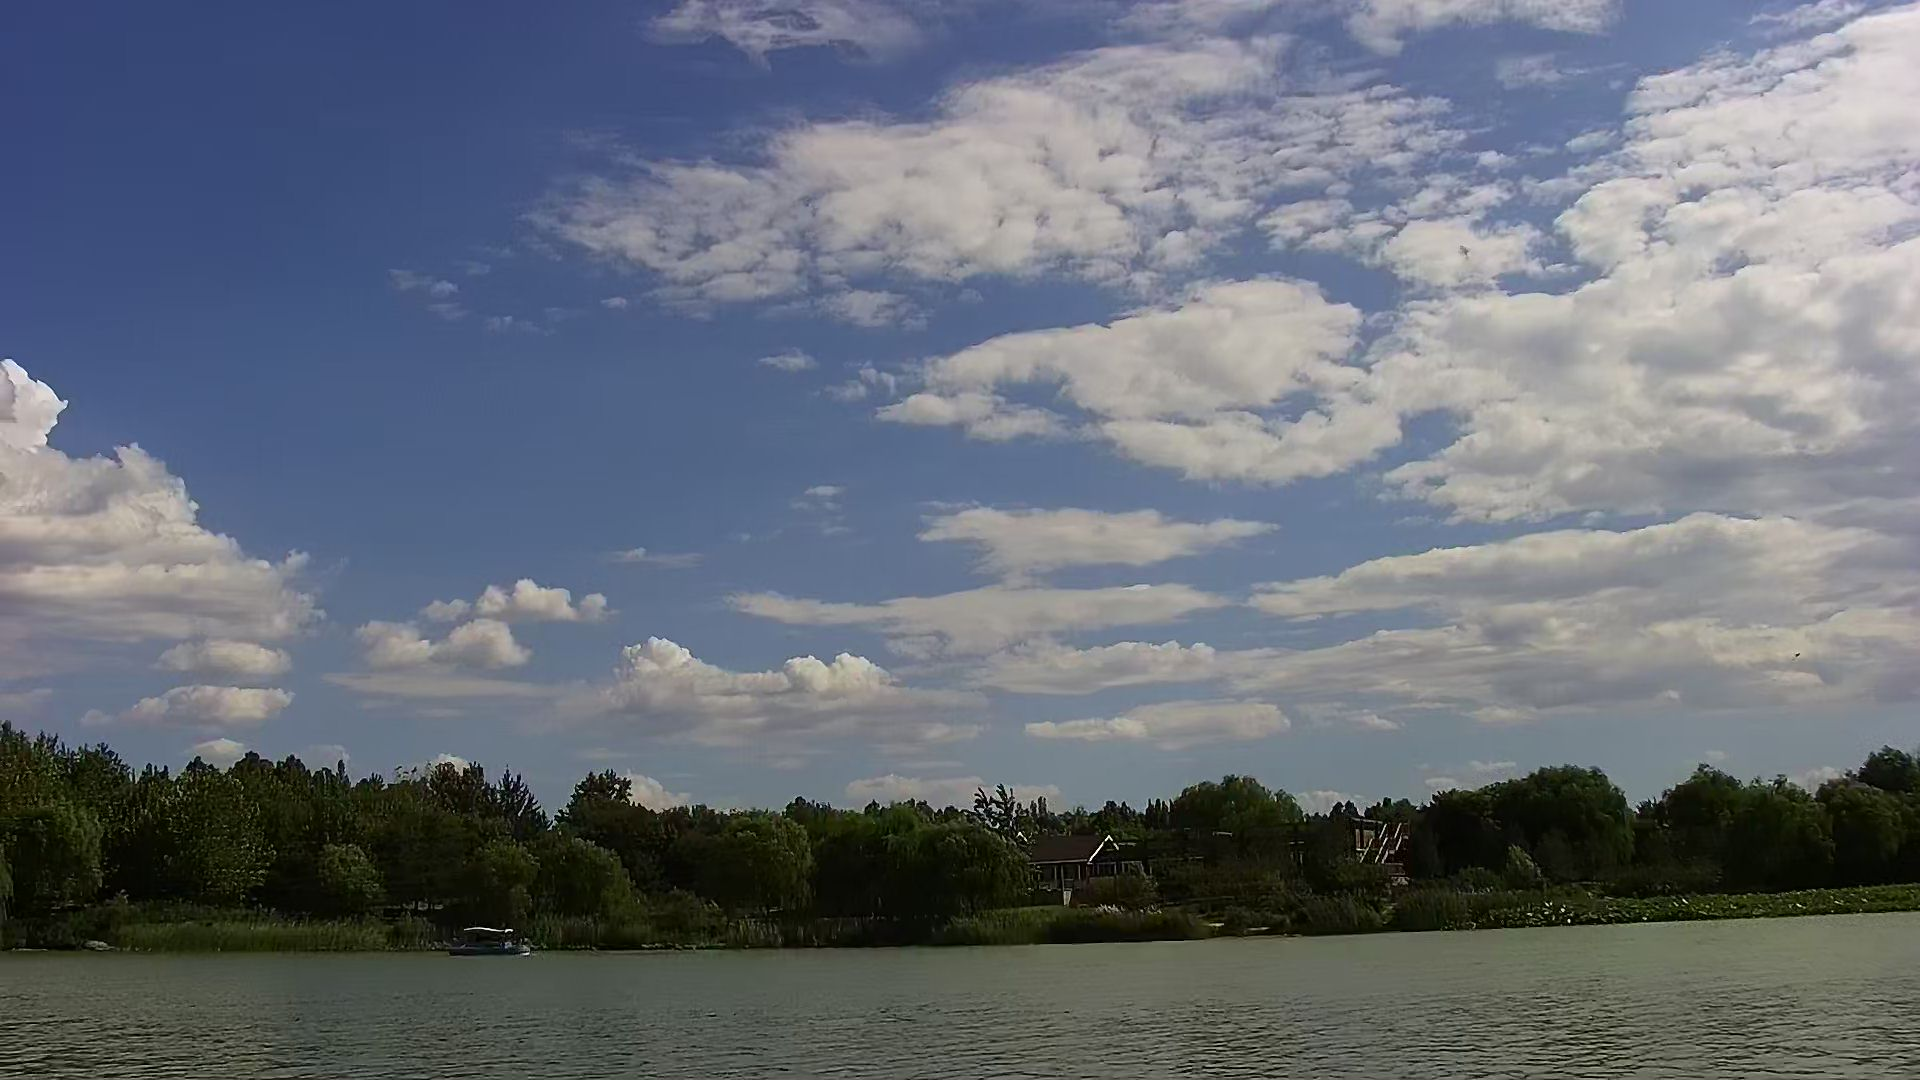boat: (444, 923, 542, 963)
